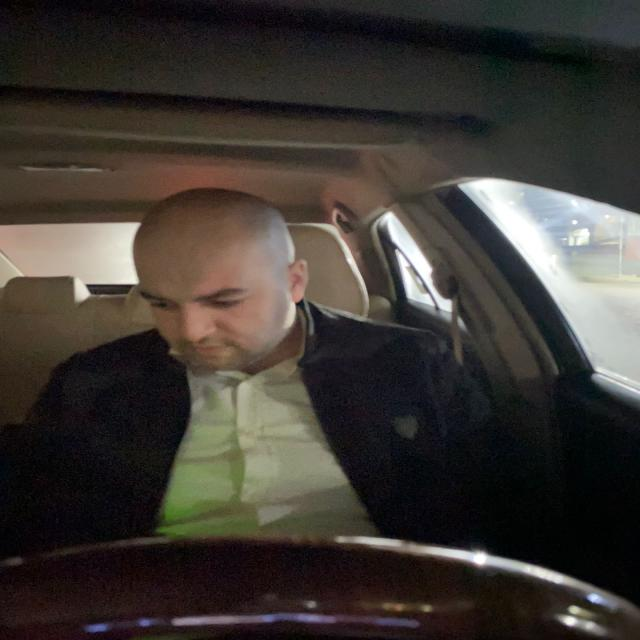person: (111, 195, 332, 380)
